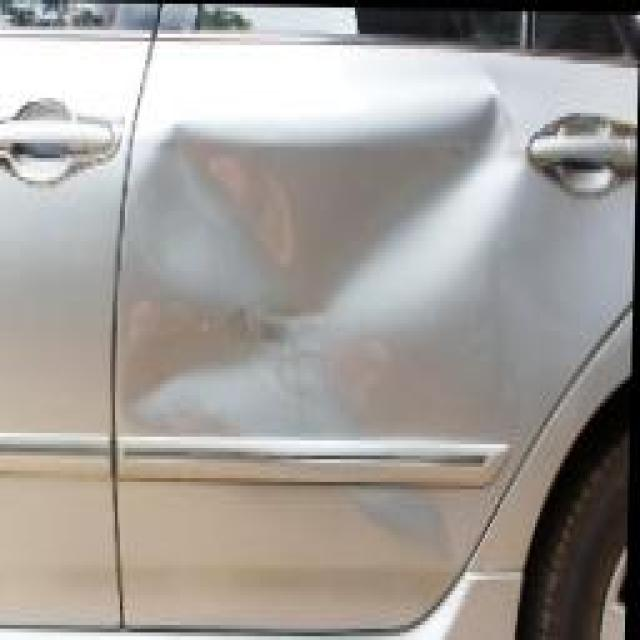Door: (122, 41, 544, 625)
